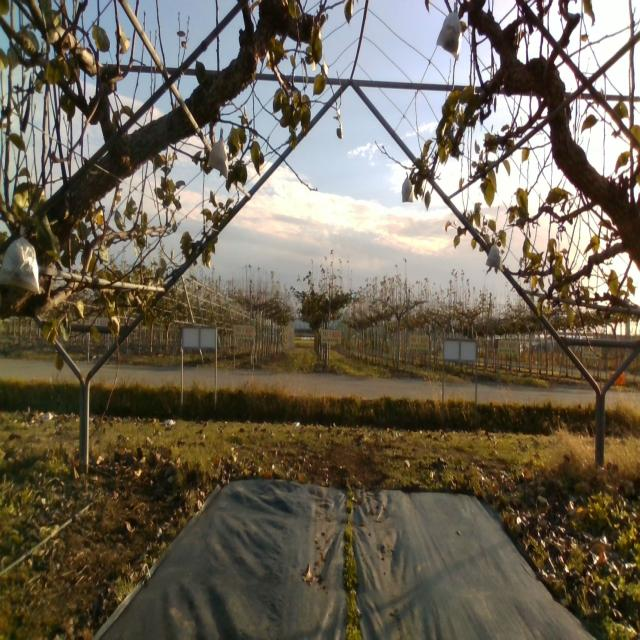pearbags: (0, 223, 42, 296), (436, 3, 462, 56), (206, 128, 231, 180), (486, 240, 504, 271), (401, 173, 415, 203)
